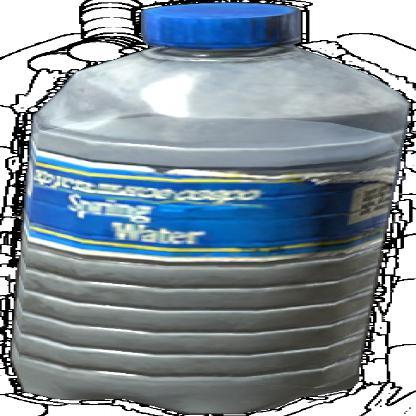bottle: (9, 2, 414, 416)
